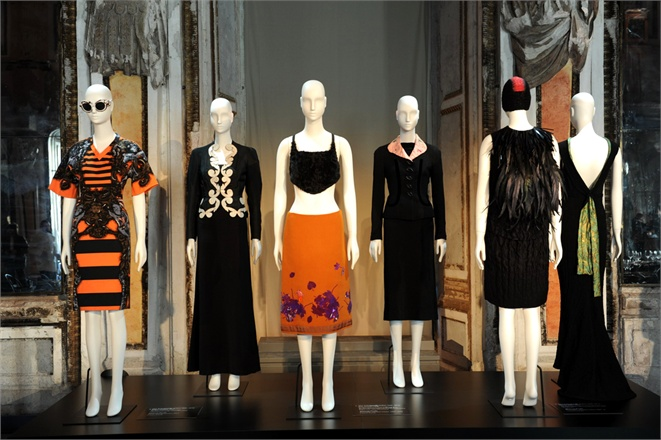person-like: (43, 81, 161, 421), (468, 73, 567, 410), (268, 73, 363, 415), (361, 90, 454, 395), (553, 86, 632, 414), (181, 94, 267, 395)
